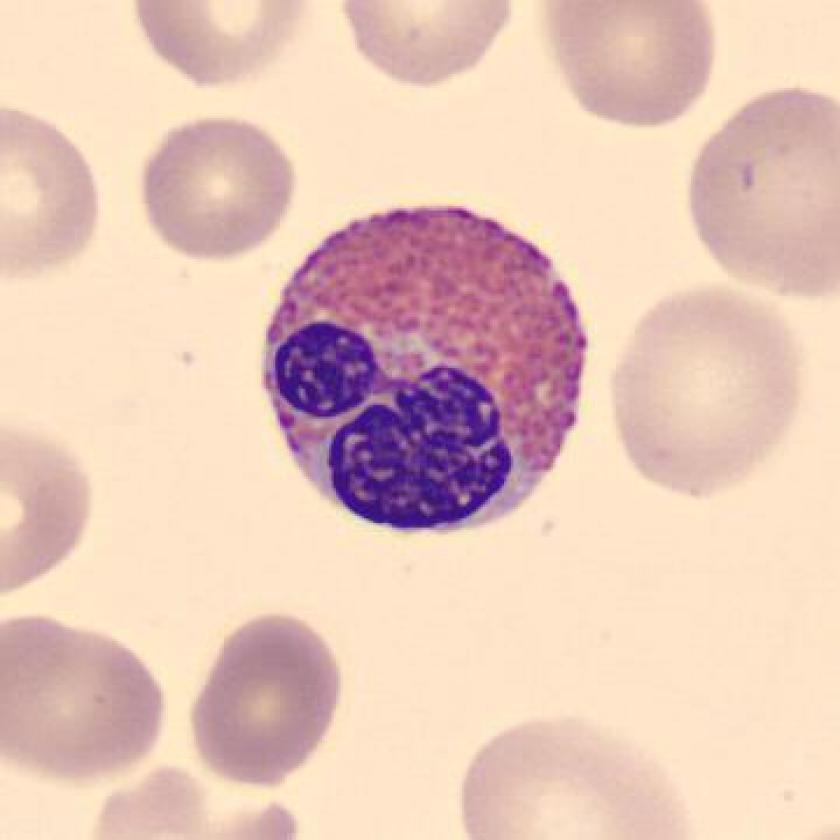eosinophil: (248, 189, 601, 550)
